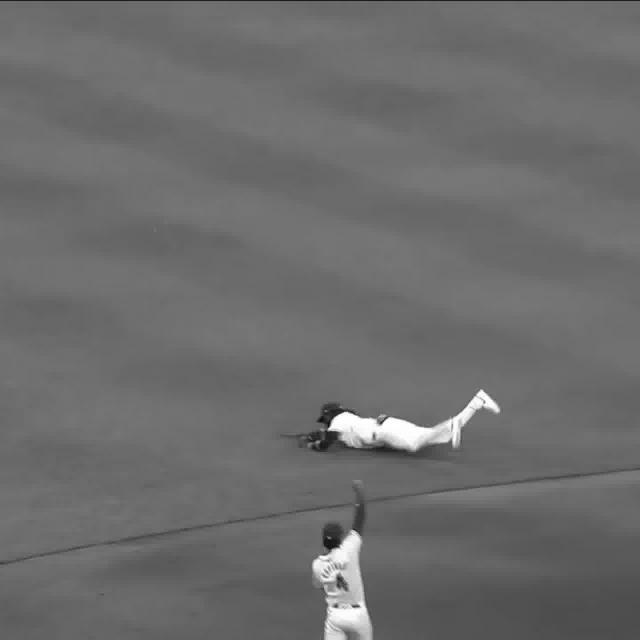baseball_glove: (284, 426, 320, 454)
shoe: (474, 388, 501, 417), (448, 415, 464, 451)
